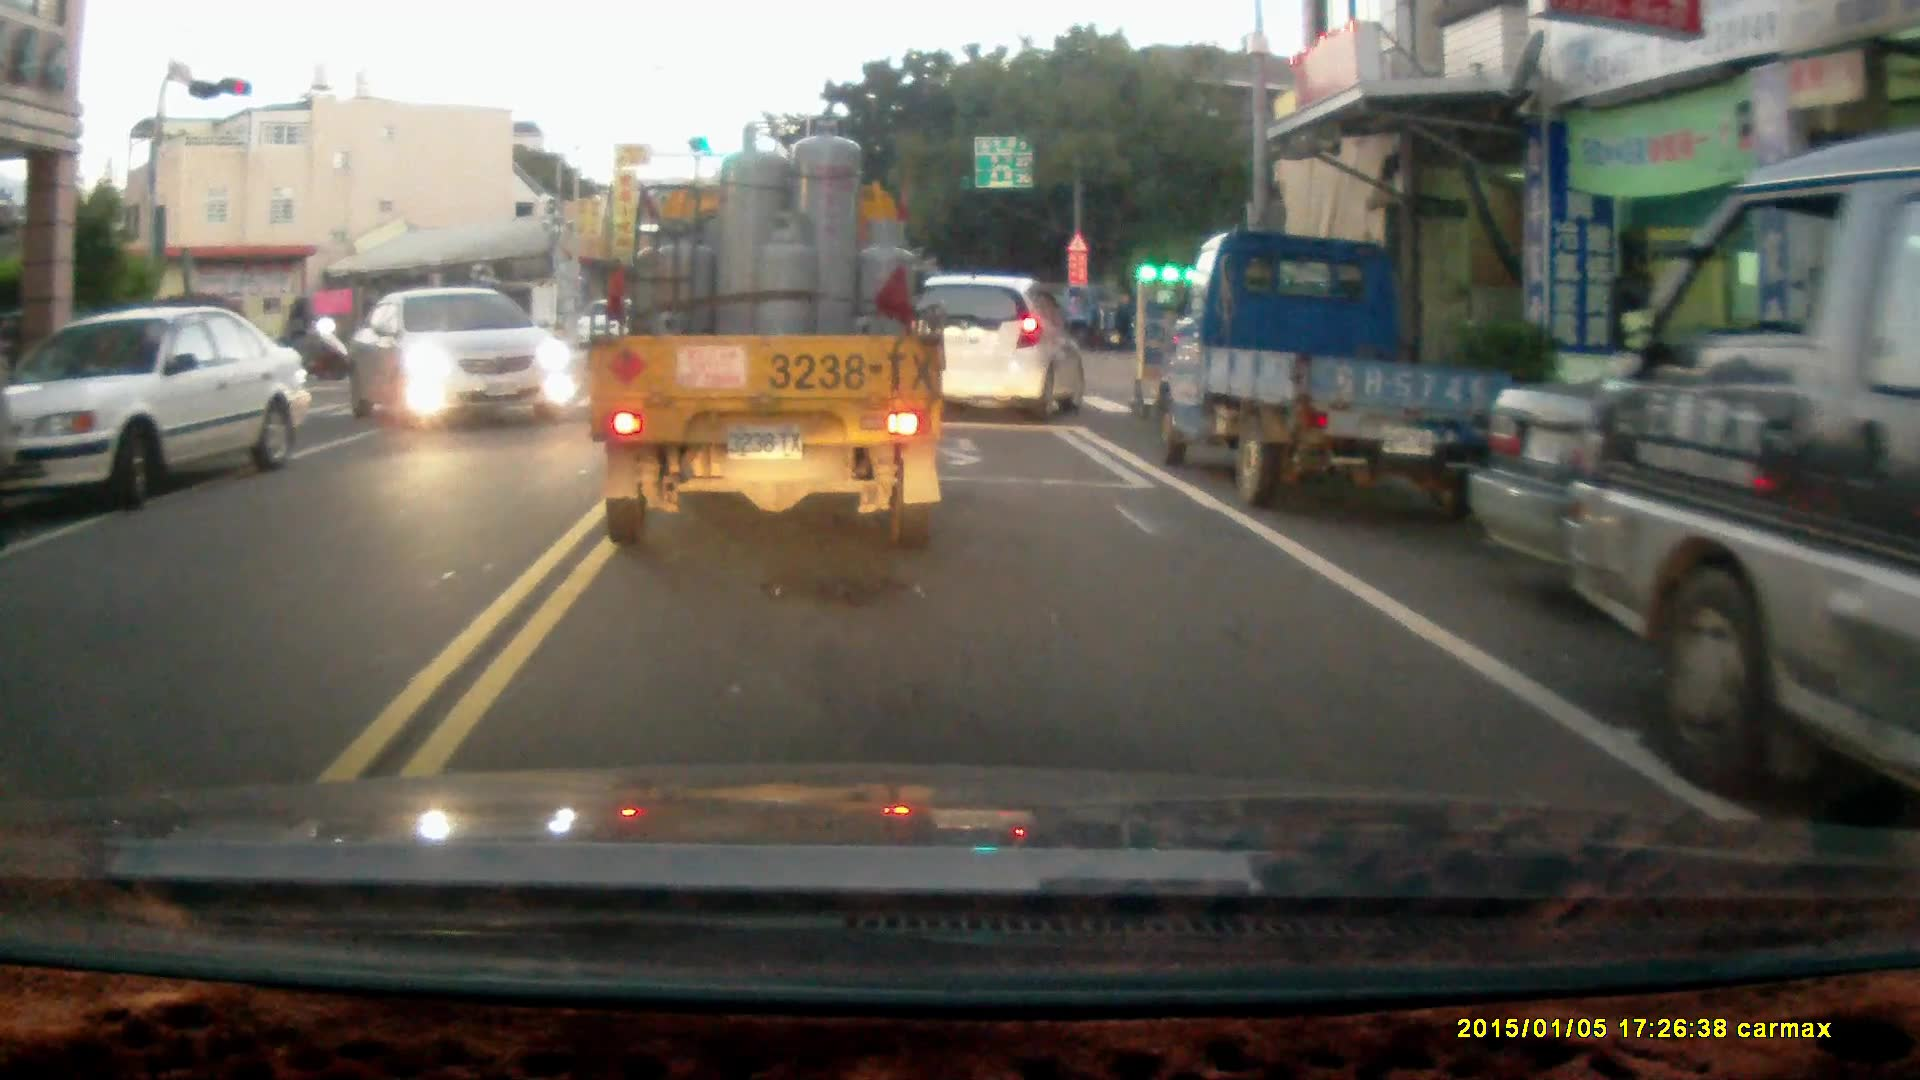rider: (265, 297, 349, 385)
vehicle: (1557, 129, 1920, 794), (585, 116, 949, 555), (1160, 231, 1512, 523), (16, 310, 312, 507), (346, 288, 580, 426), (891, 274, 1092, 419)
